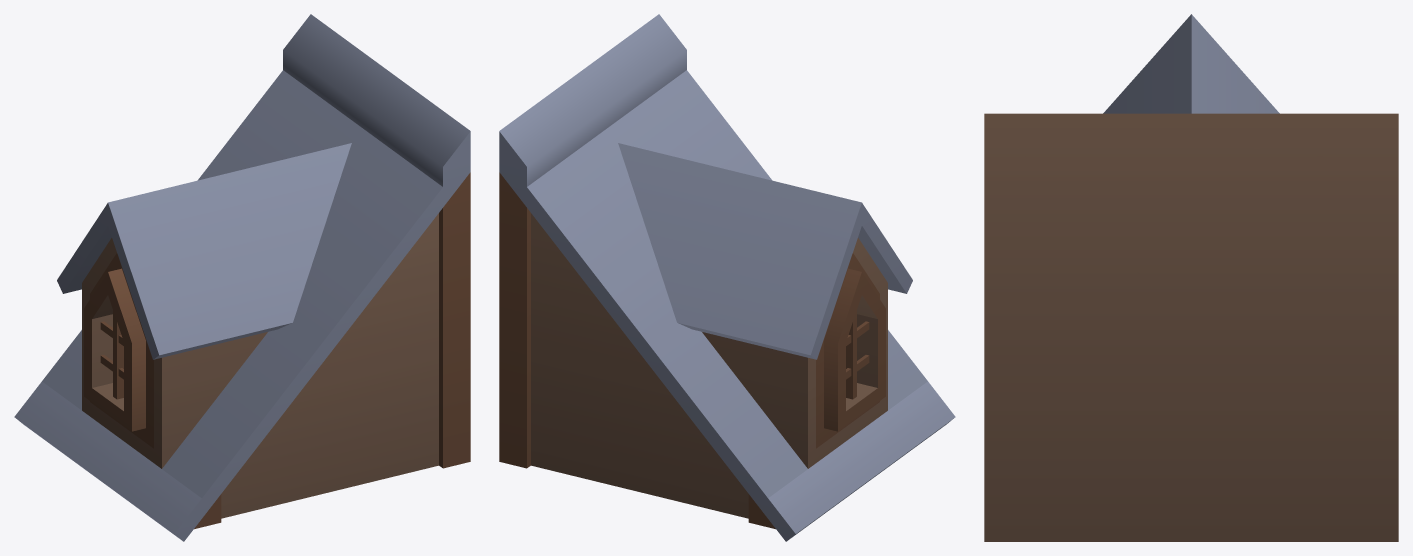
File: roof-high-window.glb
The picture shows the model from 3 angles, left to right: view 1: azimuth 30°, elevation 25°; view 2: azimuth 150°, elevation 25°; view 3: azimuth 270°, elevation 25°; orthographic projection. The views are drawn at different scales.
Visible parts, largest first — view 1: roof-high-window; view 2: roof-high-window; view 3: roof-high-window.
Part boxes in pixels (left/top/right/bottom): roof-high-window: left=14, top=14, right=470, bottom=541; roof-high-window: left=499, top=14, right=955, bottom=541; roof-high-window: left=984, top=14, right=1398, bottom=541.
Bounding box in the file's own units: 1.07 × 1.18 × 1.
1 material, 1 textured.
